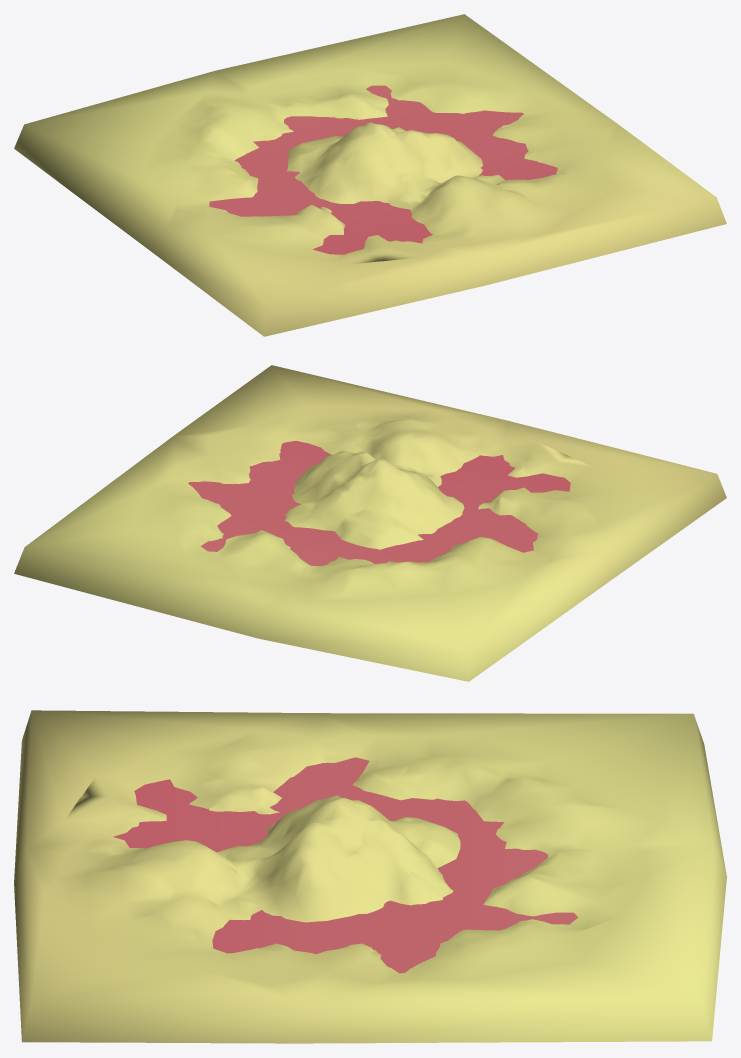
The model's file is 2PP_Lake_Ground_04.fbx.
3 views of the same model, one above another, from view 1: azimuth 30°, elevation 25°; view 2: azimuth 150°, elevation 25°; view 3: azimuth 270°, elevation 25° (orthographic). The views are drawn at different scales.
Parts seen in each view (by area): view 1: PP_Lake_Ground_04, PP_Lake_Ground_Water_04; view 2: PP_Lake_Ground_04, PP_Lake_Ground_Water_04; view 3: PP_Lake_Ground_04, PP_Lake_Ground_Water_04.
Part boxes in pixels (bbox=[...]): PP_Lake_Ground_04: bbox=[14, 14, 726, 336]; PP_Lake_Ground_Water_04: bbox=[209, 85, 557, 254]; PP_Lake_Ground_04: bbox=[14, 365, 726, 681]; PP_Lake_Ground_Water_04: bbox=[188, 441, 570, 565]; PP_Lake_Ground_04: bbox=[14, 710, 726, 1043]; PP_Lake_Ground_Water_04: bbox=[113, 757, 578, 973].
Size of the model in its own units: 2477 by 351 by 2462.
1 material, 1 textured.
